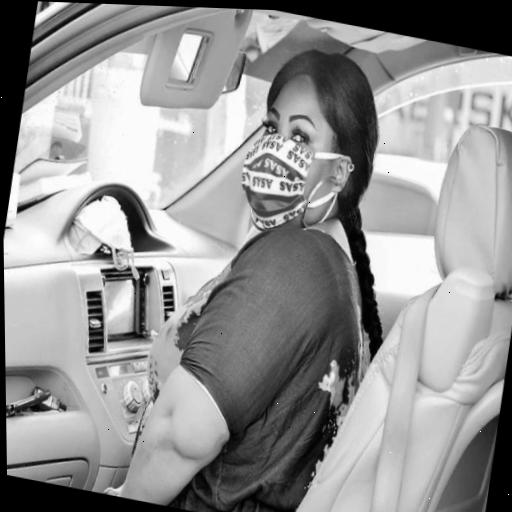mask: (232, 76, 335, 240)
